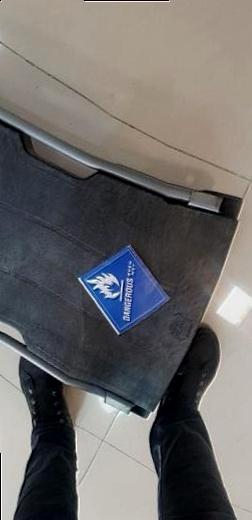dangerous-when-wet: (81, 238, 171, 341)
